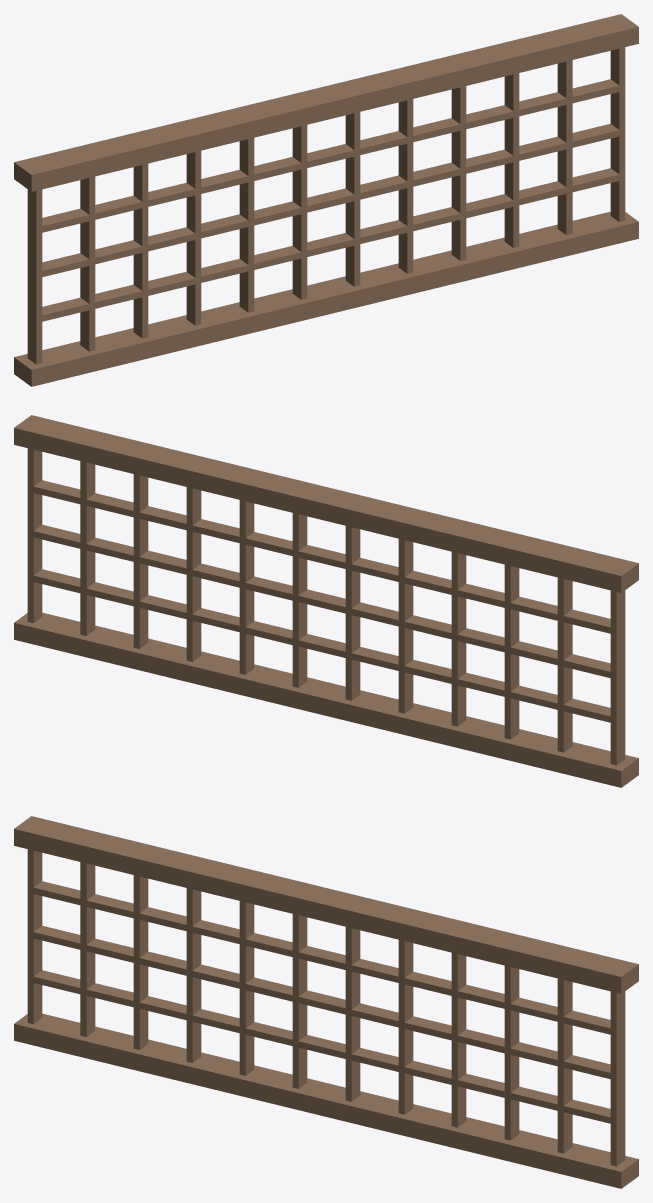
Rendered from kit_rail_wood.glb.
The picture shows the model from 3 angles, top to bottom: view 1: azimuth 30°, elevation 25°; view 2: azimuth 150°, elevation 25°; view 3: azimuth 330°, elevation 25°; orthographic projection.
Visible parts, largest first — view 1: kit_rail_wood; view 2: kit_rail_wood; view 3: kit_rail_wood.
Part boxes in pixels (left/top/right/bottom): kit_rail_wood: left=14, top=14, right=638, bottom=386; kit_rail_wood: left=14, top=415, right=638, bottom=787; kit_rail_wood: left=14, top=816, right=638, bottom=1188.
Bounding box in the file's own units: 3 × 0.9999 × 0.1502.
